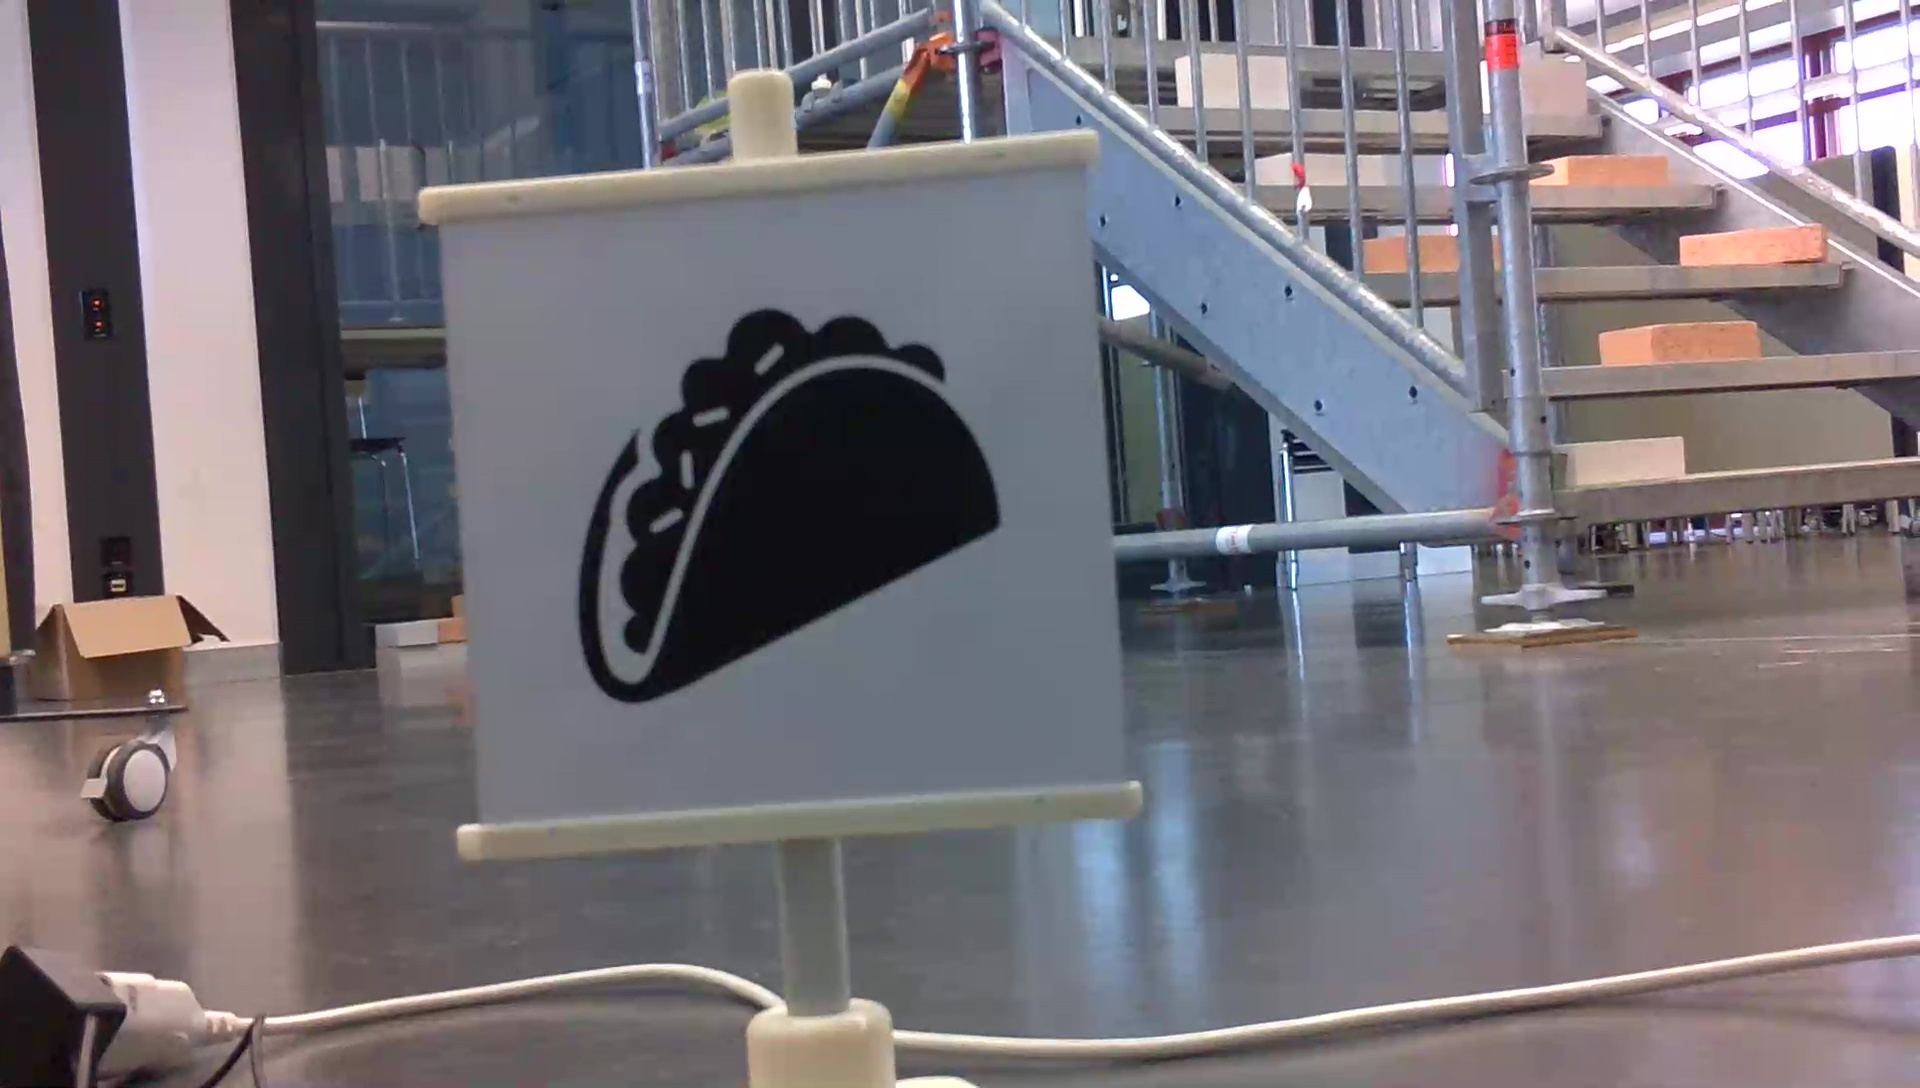brick: (1601, 323, 1755, 360), (1567, 437, 1680, 481), (1683, 228, 1825, 262), (1518, 59, 1585, 115), (1544, 154, 1665, 185)
taco: (563, 295, 1018, 713)
